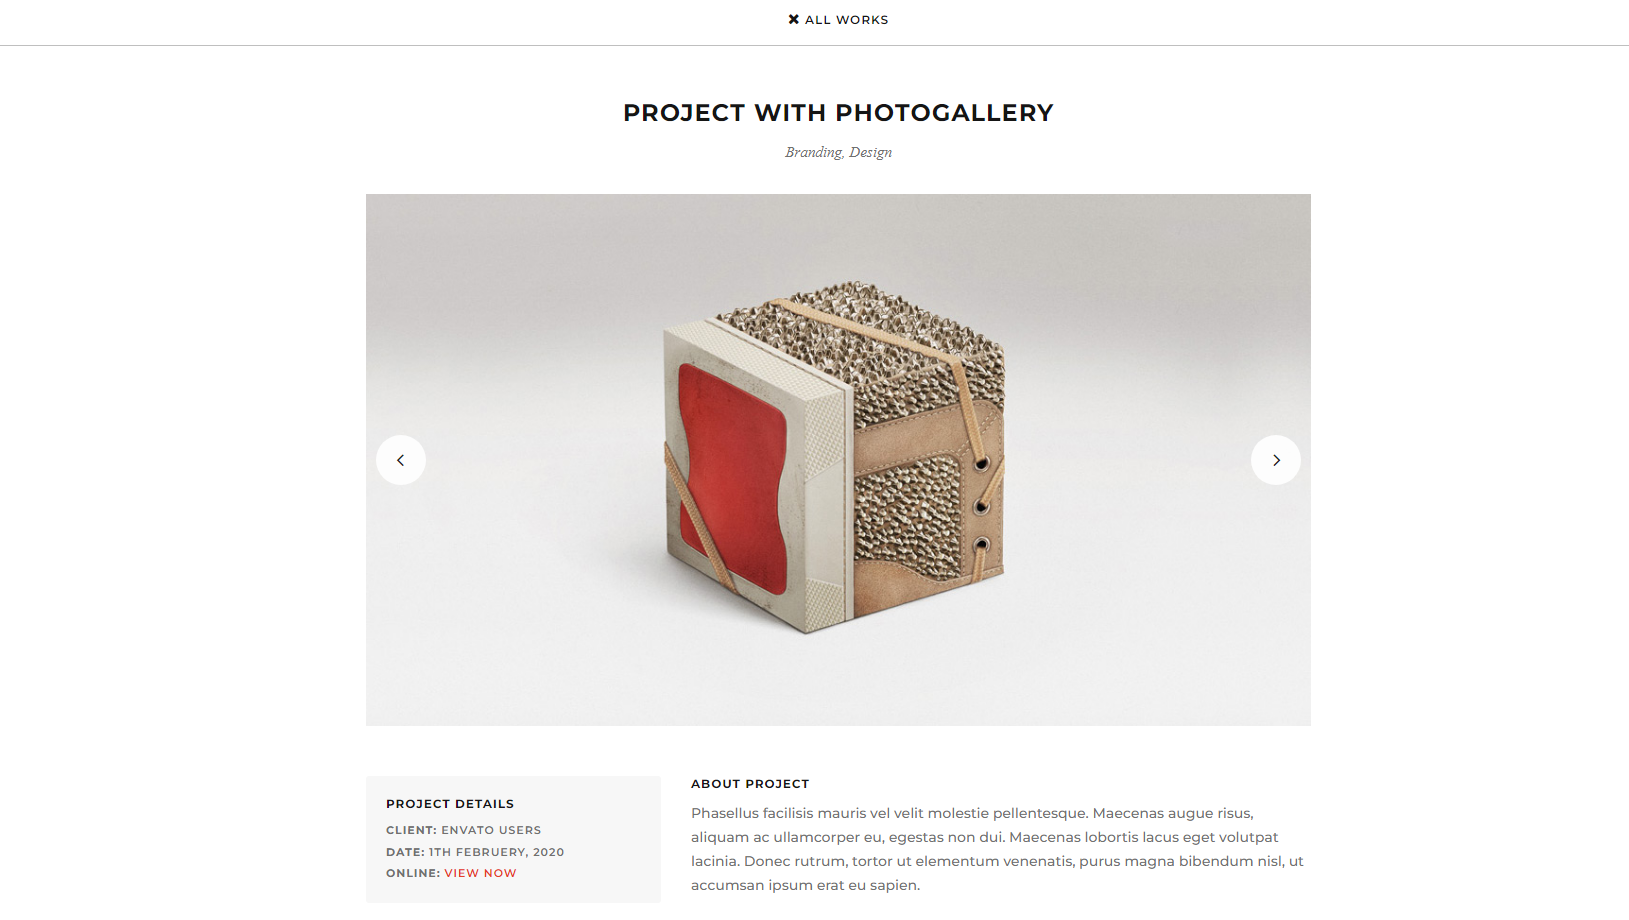decorators: (586, 250, 1098, 661)
